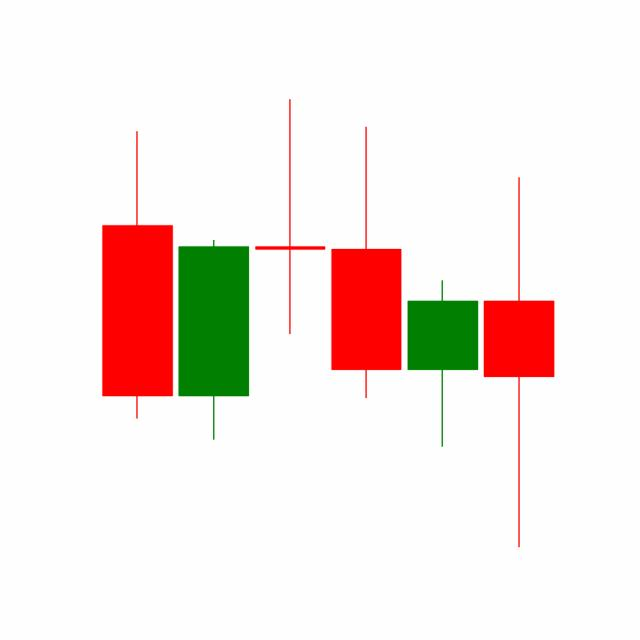Hammer: (403, 278, 481, 448)
